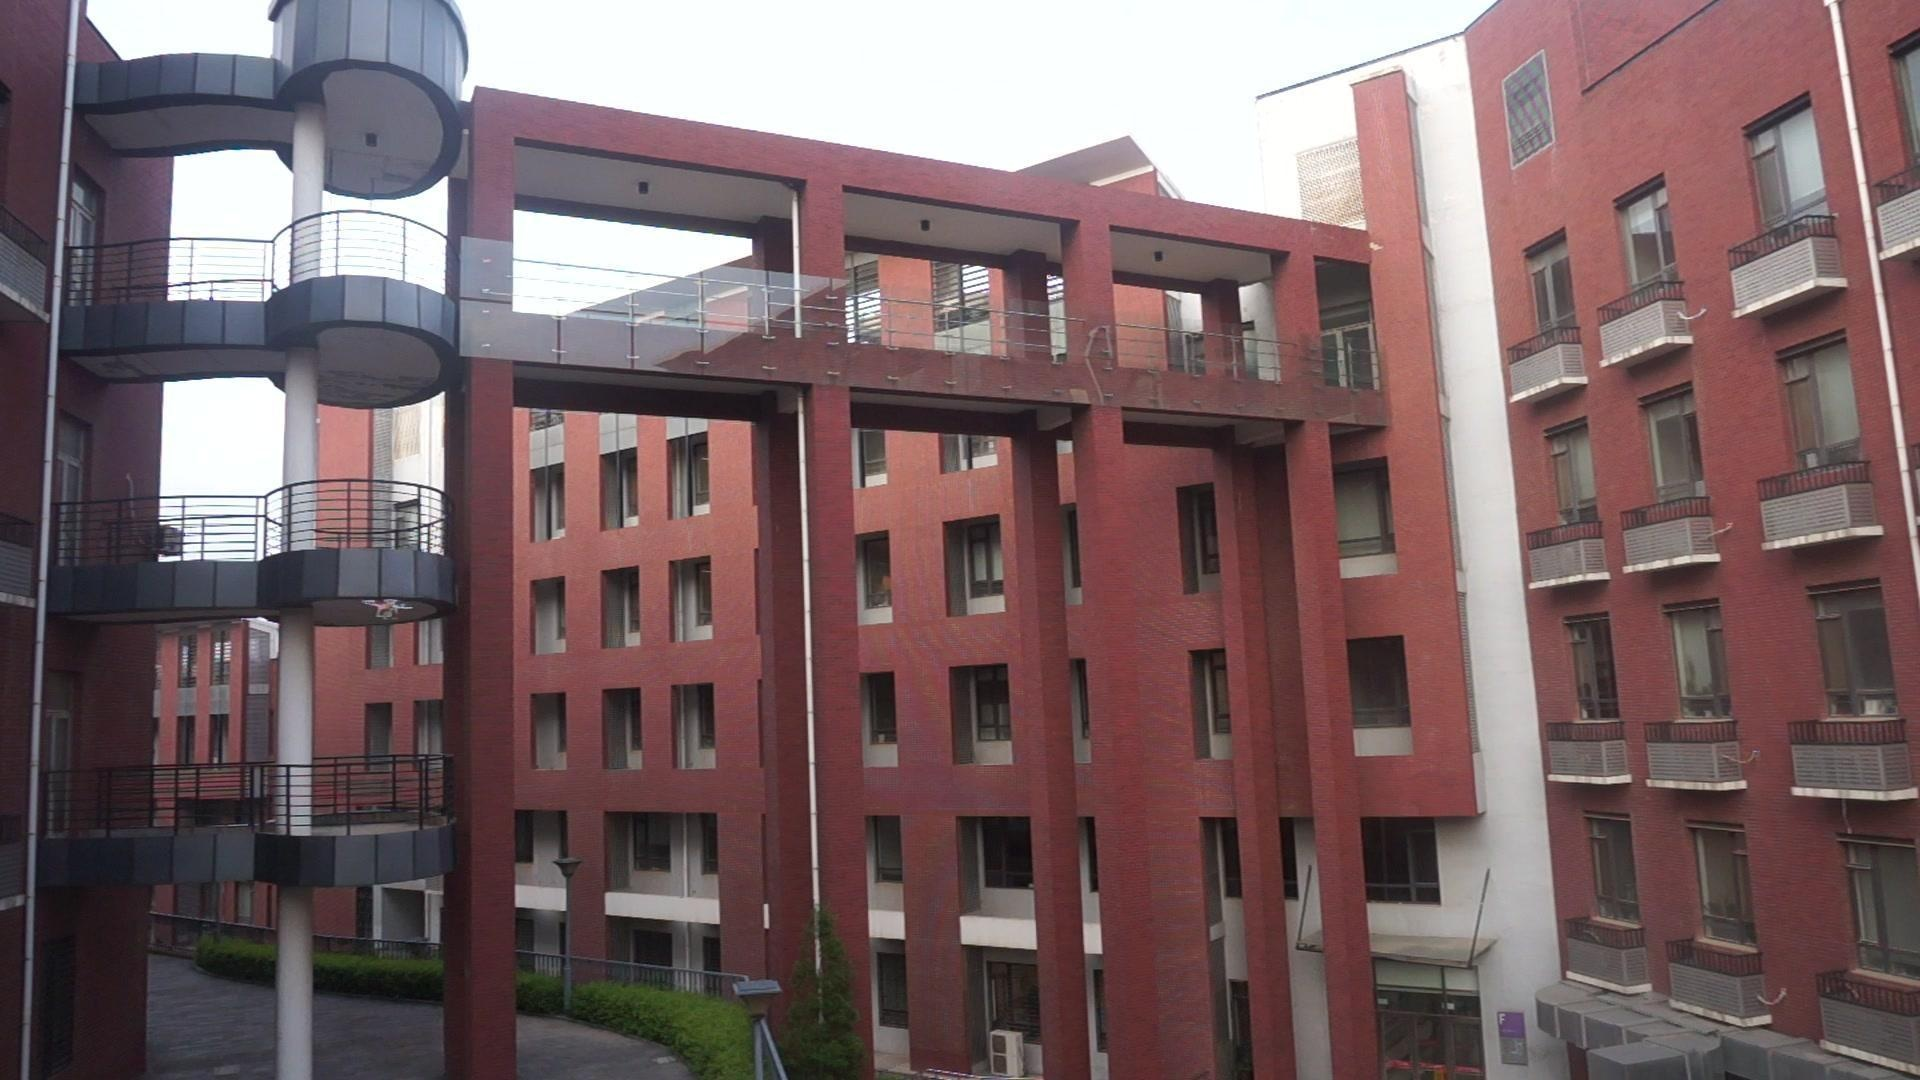UAV: (363, 599, 415, 620)
